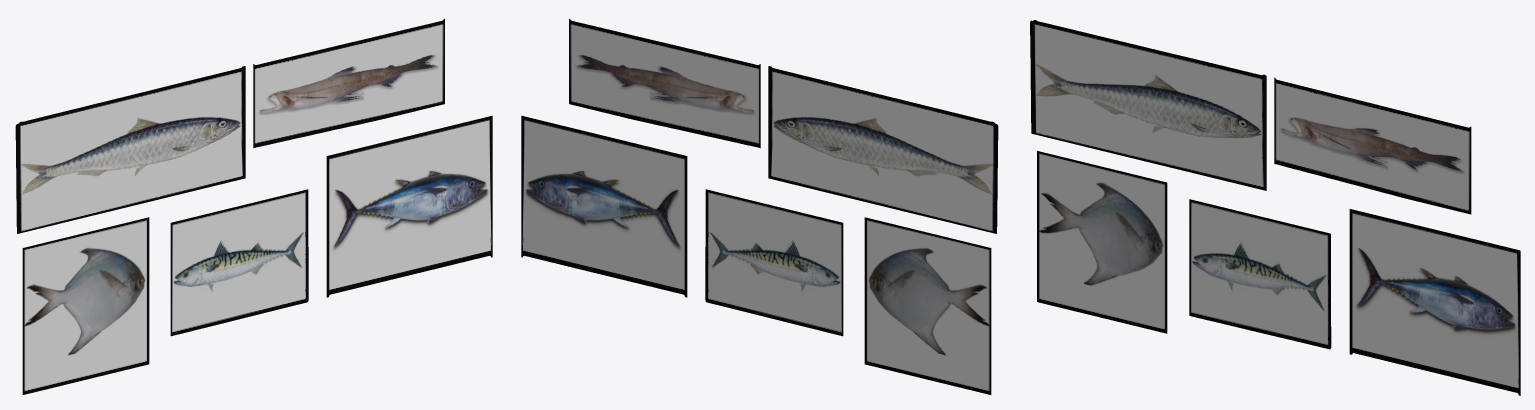
File: Fishes 1.fbx
3 views of the same model, side by side, from view 1: azimuth 30°, elevation 25°; view 2: azimuth 150°, elevation 25°; view 3: azimuth 330°, elevation 25° (orthographic). The views are drawn at different scales.
Parts seen in each view (by area): view 1: Sardines, Tuna, Pomfret, Bombay_duck, Mackerel; view 2: Sardines, Tuna, Pomfret, Bombay_duck, Mackerel; view 3: Sardines, Tuna, Pomfret, Bombay_duck, Mackerel.
Part boxes in pixels (x1,y1,x2,y2): Sardines: (15, 66, 245, 233); Tuna: (326, 115, 492, 297); Pomfret: (22, 217, 149, 394); Bombay_duck: (253, 18, 444, 148); Mackerel: (170, 189, 308, 336); Sardines: (768, 66, 998, 233); Tuna: (521, 115, 687, 297); Pomfret: (864, 217, 991, 394); Bombay_duck: (569, 18, 760, 148); Mackerel: (705, 189, 843, 336); Sardines: (1030, 20, 1266, 190); Tuna: (1349, 209, 1520, 395); Pomfret: (1037, 151, 1167, 333); Bombay_duck: (1274, 77, 1471, 214); Mackerel: (1189, 199, 1331, 349).
Bounding box in the file's own units: 1922 × 1067 × 0.
1 material, 1 textured.
